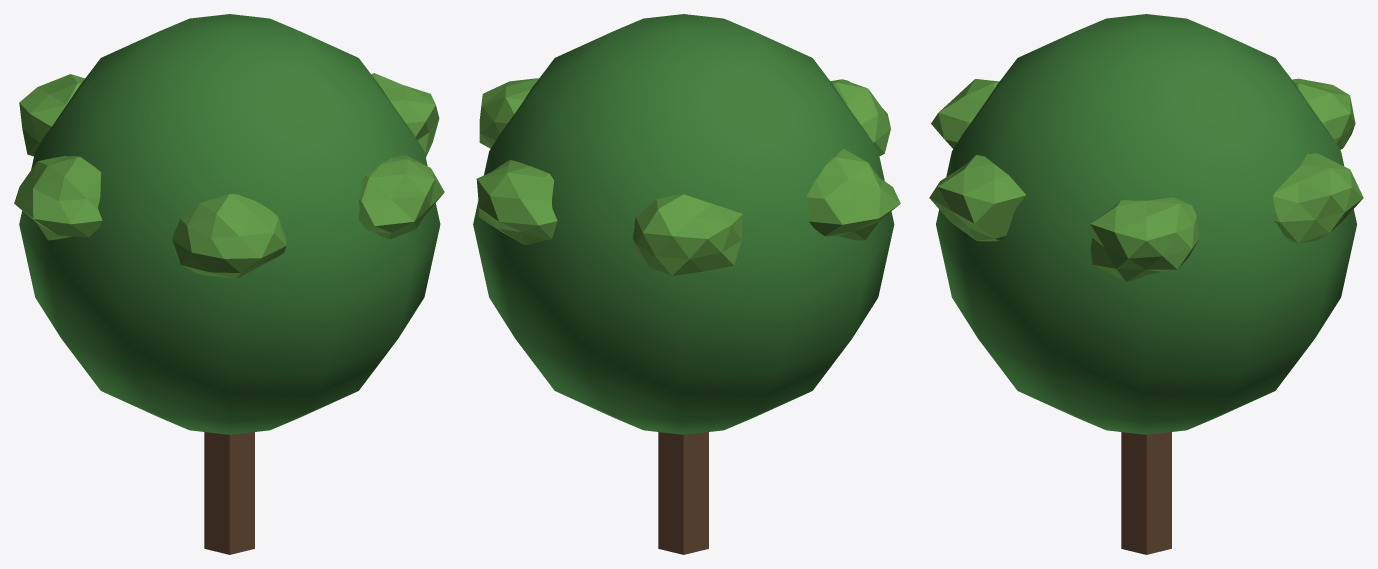
Rendered from arbusto_bola.glb.
3 renders of one model, left to right at view 1: azimuth 30°, elevation 25°; view 2: azimuth 150°, elevation 25°; view 3: azimuth 270°, elevation 25°, orthographic.
Parts seen in each view (by area): view 1: arbusto_bola; view 2: arbusto_bola; view 3: arbusto_bola.
Boxes of the visible parts, x1,y1,x2,y2 form: arbusto_bola: [14, 14, 444, 554]; arbusto_bola: [473, 14, 900, 554]; arbusto_bola: [929, 14, 1363, 554].
Size of the model in its own units: 0.8049 by 0.96 by 0.7427.
